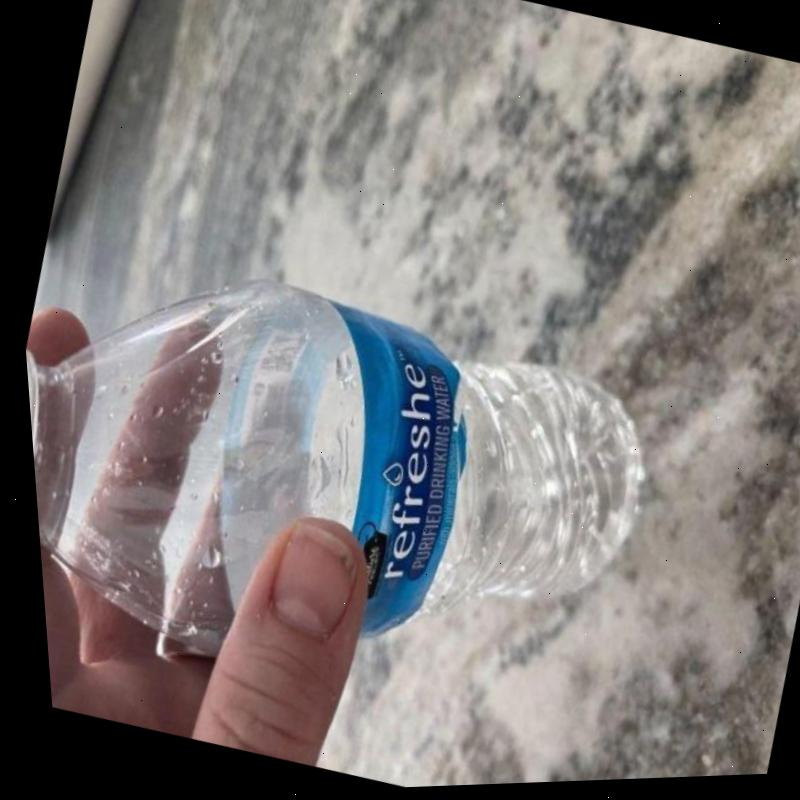botella: (14, 215, 679, 762)
